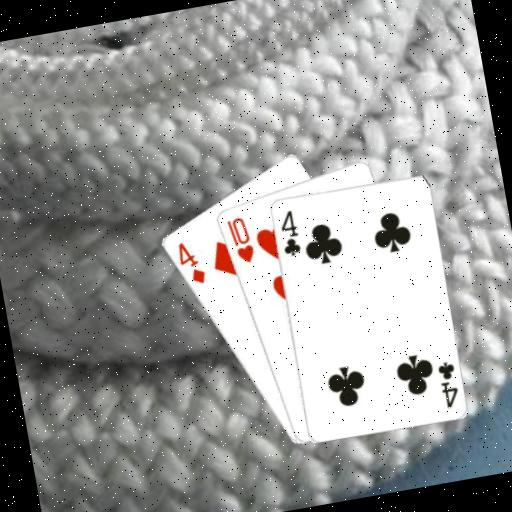10H: (222, 212, 257, 266)
4C: (433, 356, 463, 410), (273, 205, 303, 258)
4D: (172, 236, 208, 289)
